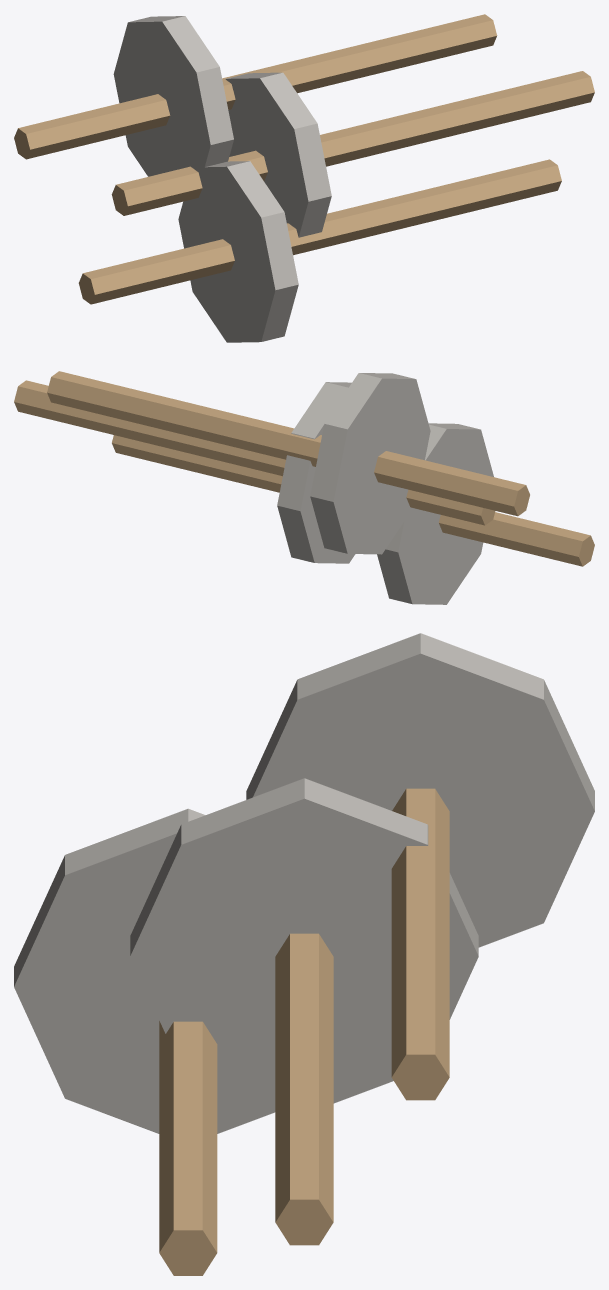
File: item_035_hand_spindle_m.glb
3 views of the same model, one above another, from view 1: azimuth 30°, elevation 25°; view 2: azimuth 150°, elevation 25°; view 3: azimuth 270°, elevation 25° (orthographic). The views are drawn at different scales.
Parts seen in each view (by area): view 1: item_035_hand_spindle_m; view 2: item_035_hand_spindle_m; view 3: item_035_hand_spindle_m.
Boxes of the visible parts, <box> form: item_035_hand_spindle_m: <box>14,14,594,342</box>; item_035_hand_spindle_m: <box>14,371,594,604</box>; item_035_hand_spindle_m: <box>14,633,594,1275</box>.
Size of the model in its own units: 0.57 by 0.28 by 0.3.
